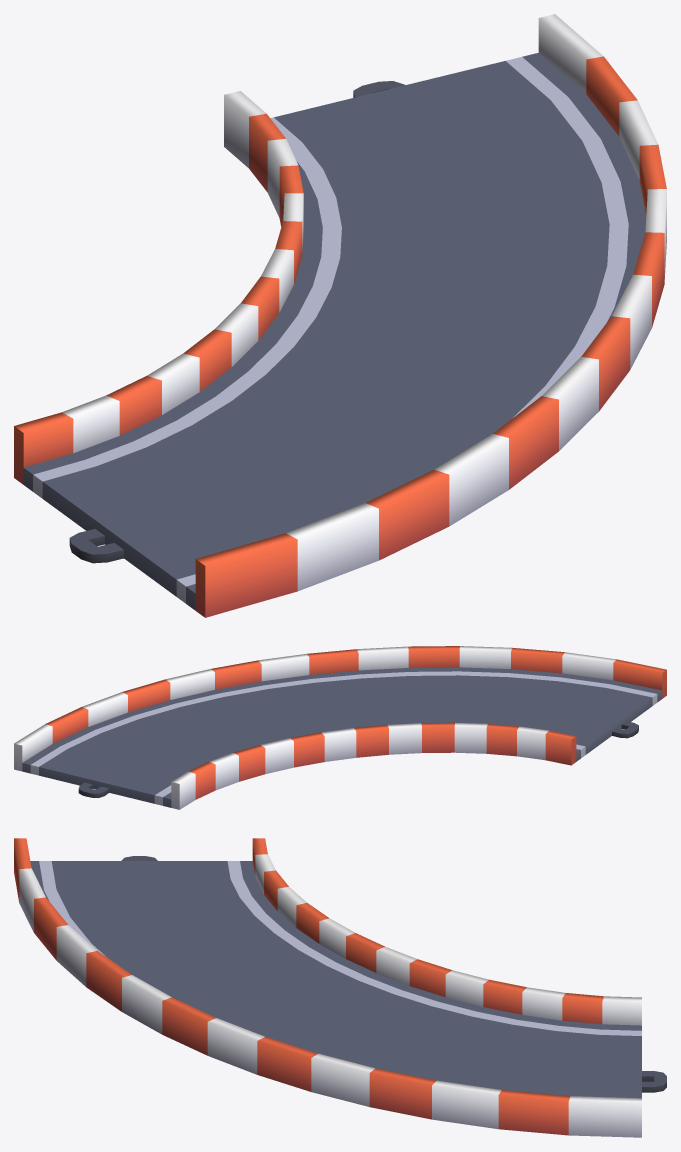
Rendered from track-road-wide-corner-large.glb.
The picture shows the model from 3 angles, top to bottom: view 1: azimuth 30°, elevation 25°; view 2: azimuth 150°, elevation 25°; view 3: azimuth 270°, elevation 25°; orthographic projection. The views are drawn at different scales.
Visible parts, largest first — view 1: track-road-wide-corner-large; view 2: track-road-wide-corner-large; view 3: track-road-wide-corner-large.
Part boxes in pixels (x1,y1,x2,y2): track-road-wide-corner-large: [14, 14, 666, 617]; track-road-wide-corner-large: [14, 646, 666, 809]; track-road-wide-corner-large: [14, 838, 666, 1137].
Bounding box in the file's own units: 5.2 × 0.2999 × 5.2.
Materials: 1 (1 with a texture image).
